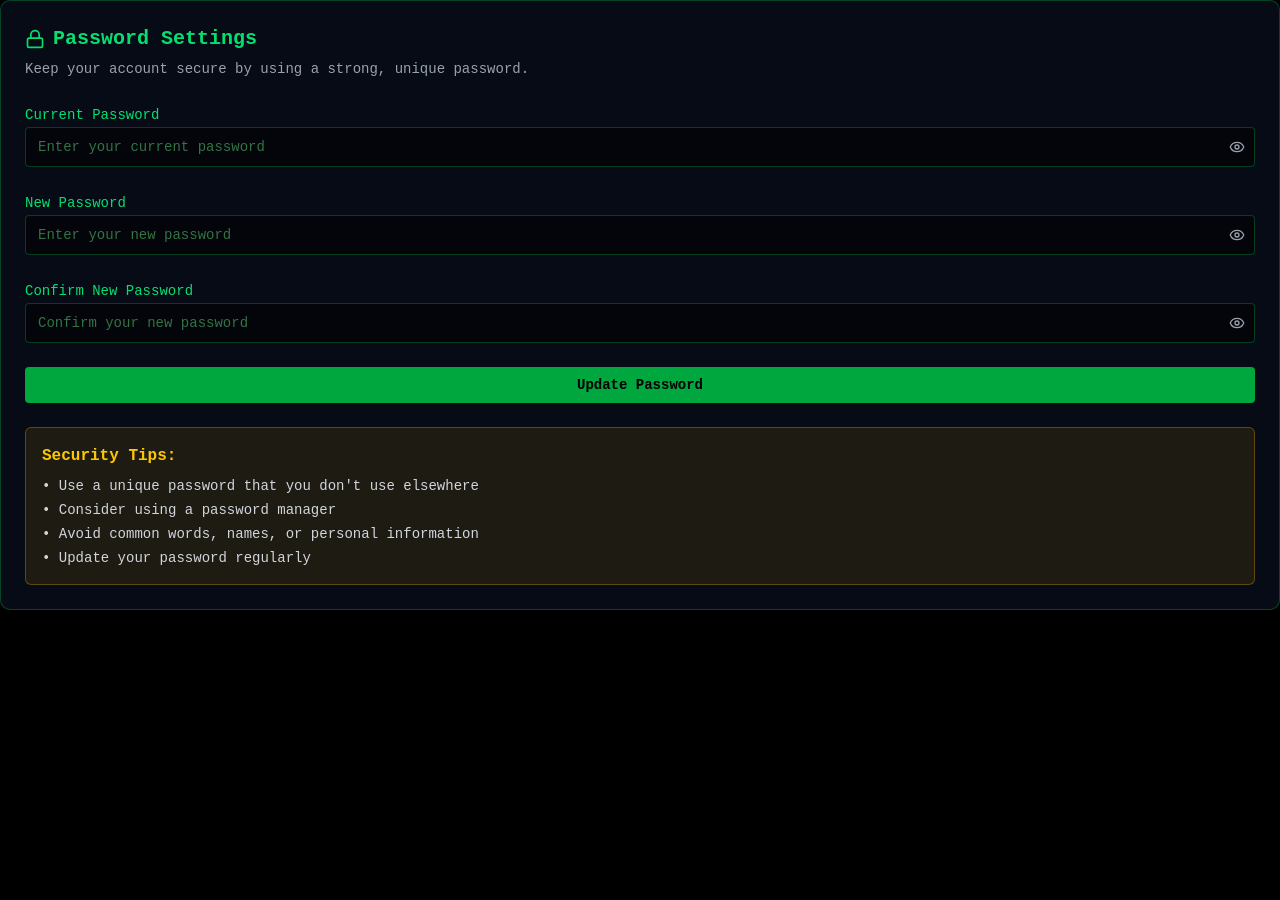
Test: PasswordSettings › prevents using same password as current
Type "SamePassword123!" into the password field labelled "Current Password" at (640, 147), box x1=25 y1=127 x2=1255 y2=167
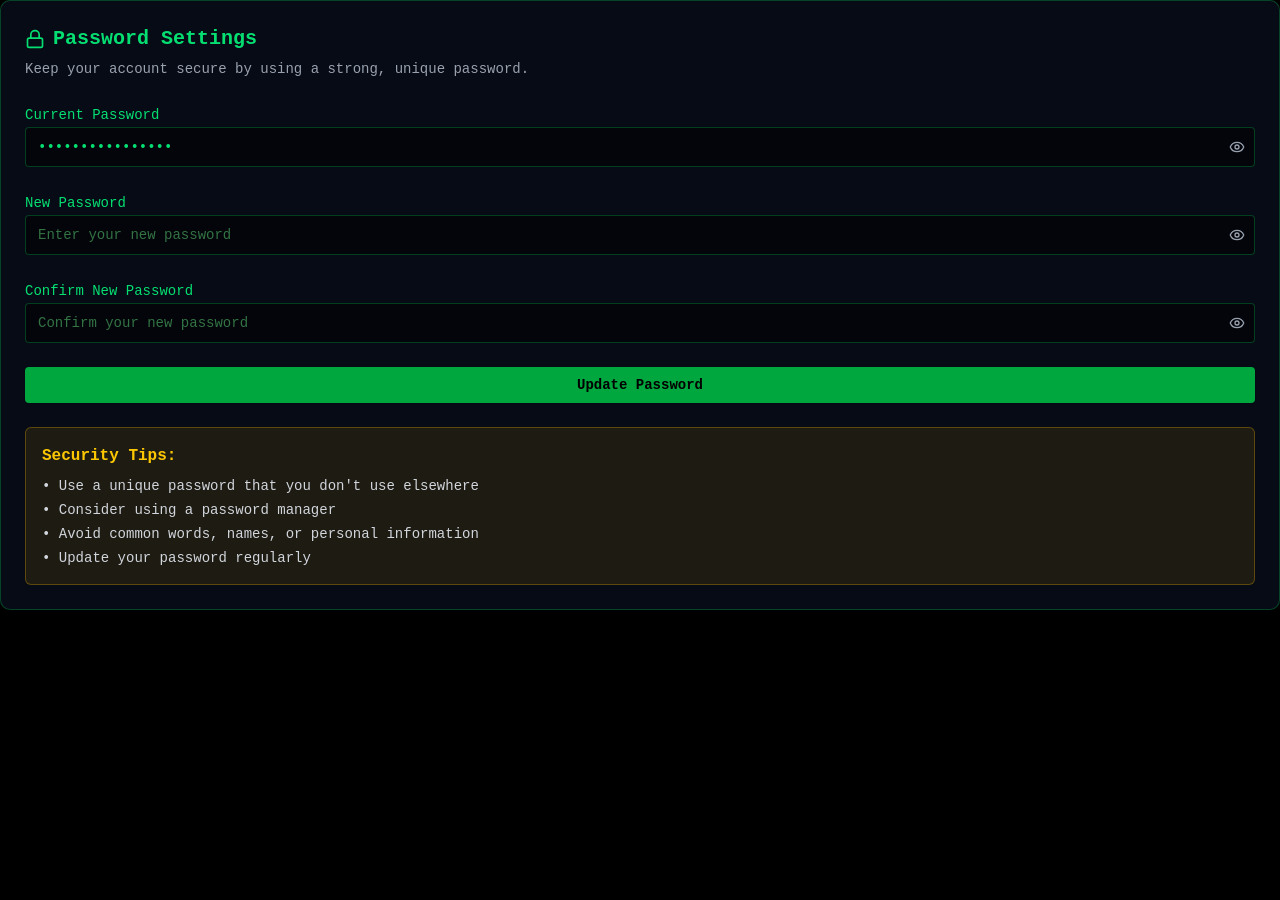
Type "SamePassword123!" into the password field labelled "New Password" at (640, 235), box x1=25 y1=215 x2=1255 y2=255
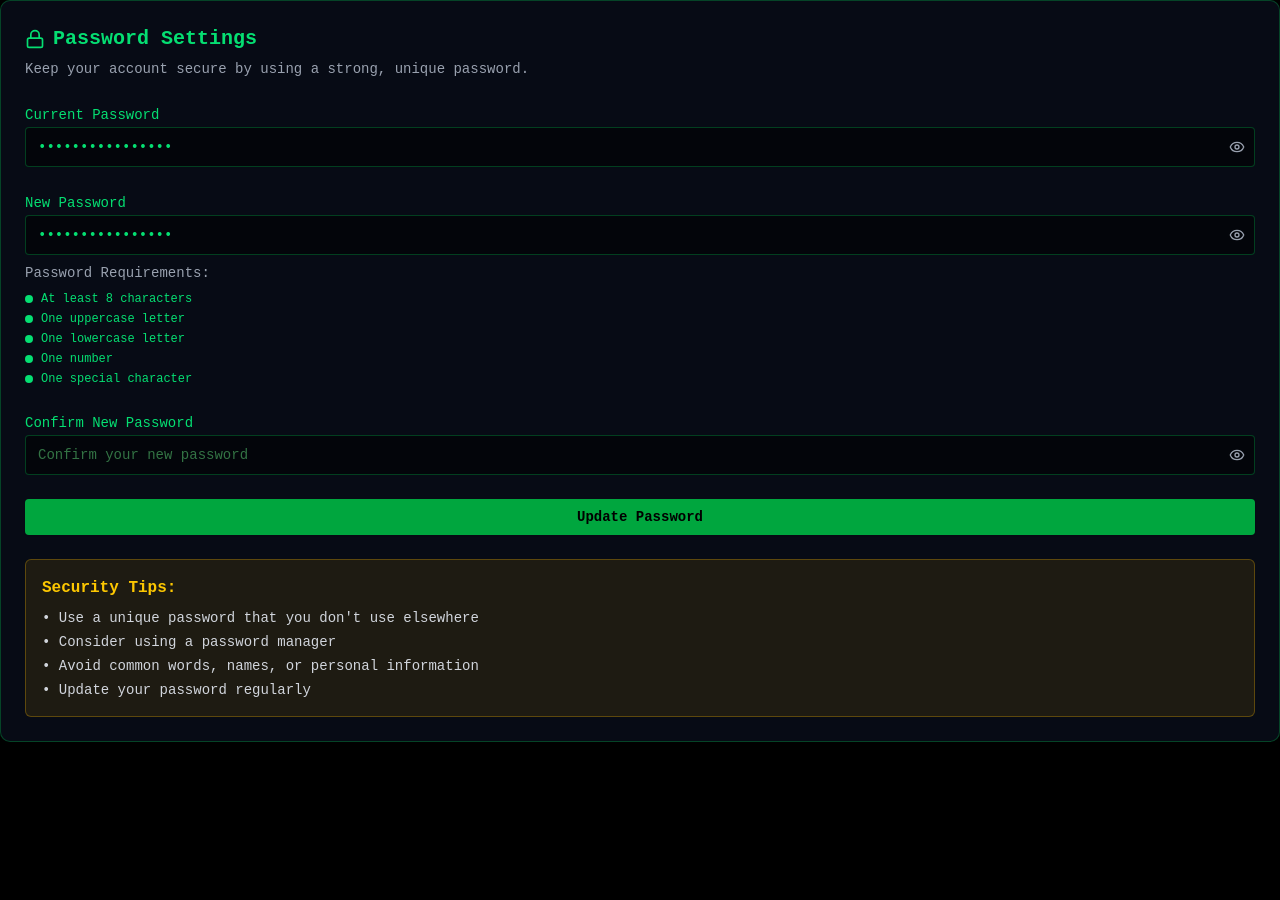
Type "SamePassword123!" into the password field labelled "Confirm New Password" at (640, 455), box x1=25 y1=435 x2=1255 y2=475
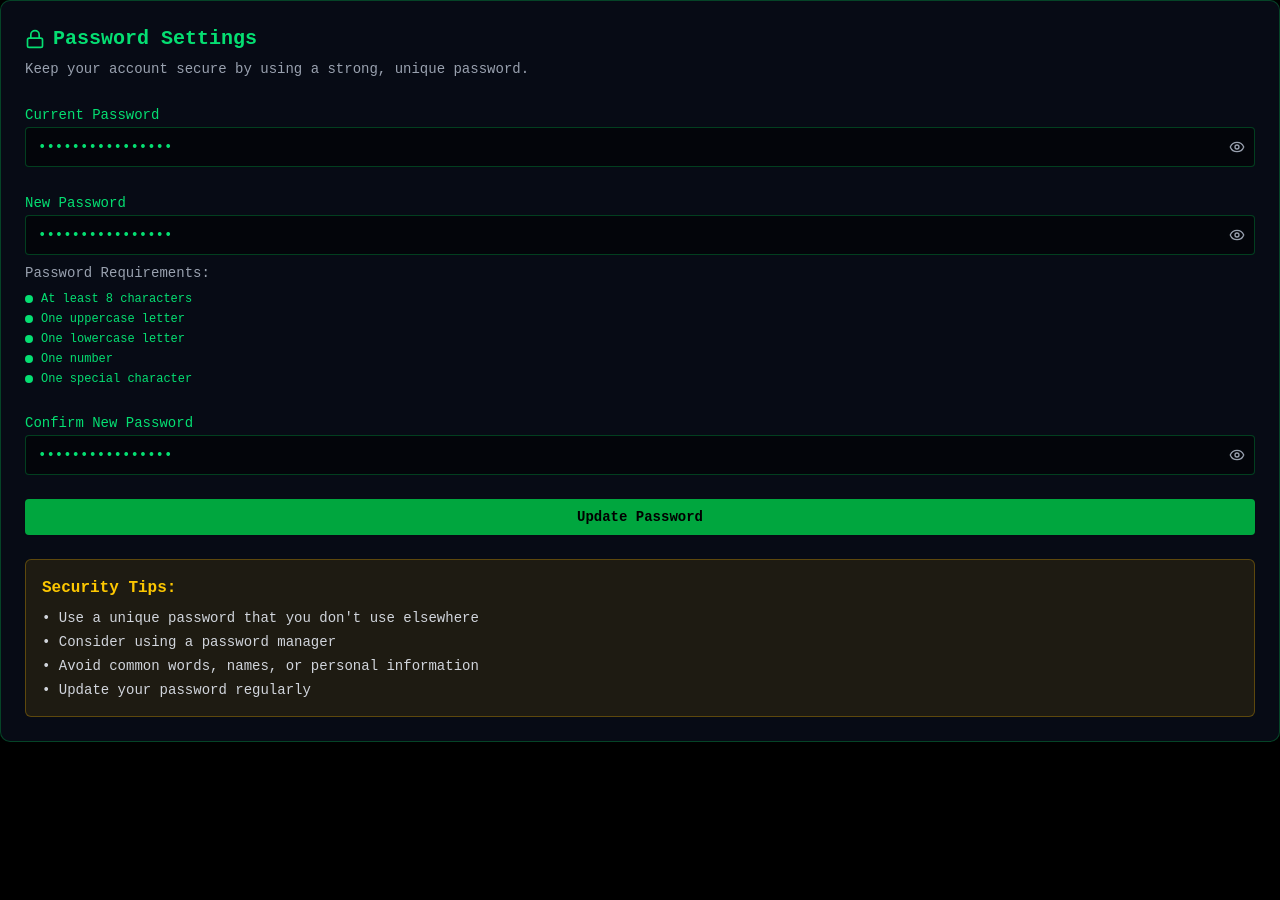
Click the button "Update Password" at (640, 517), box x1=25 y1=499 x2=1255 y2=535
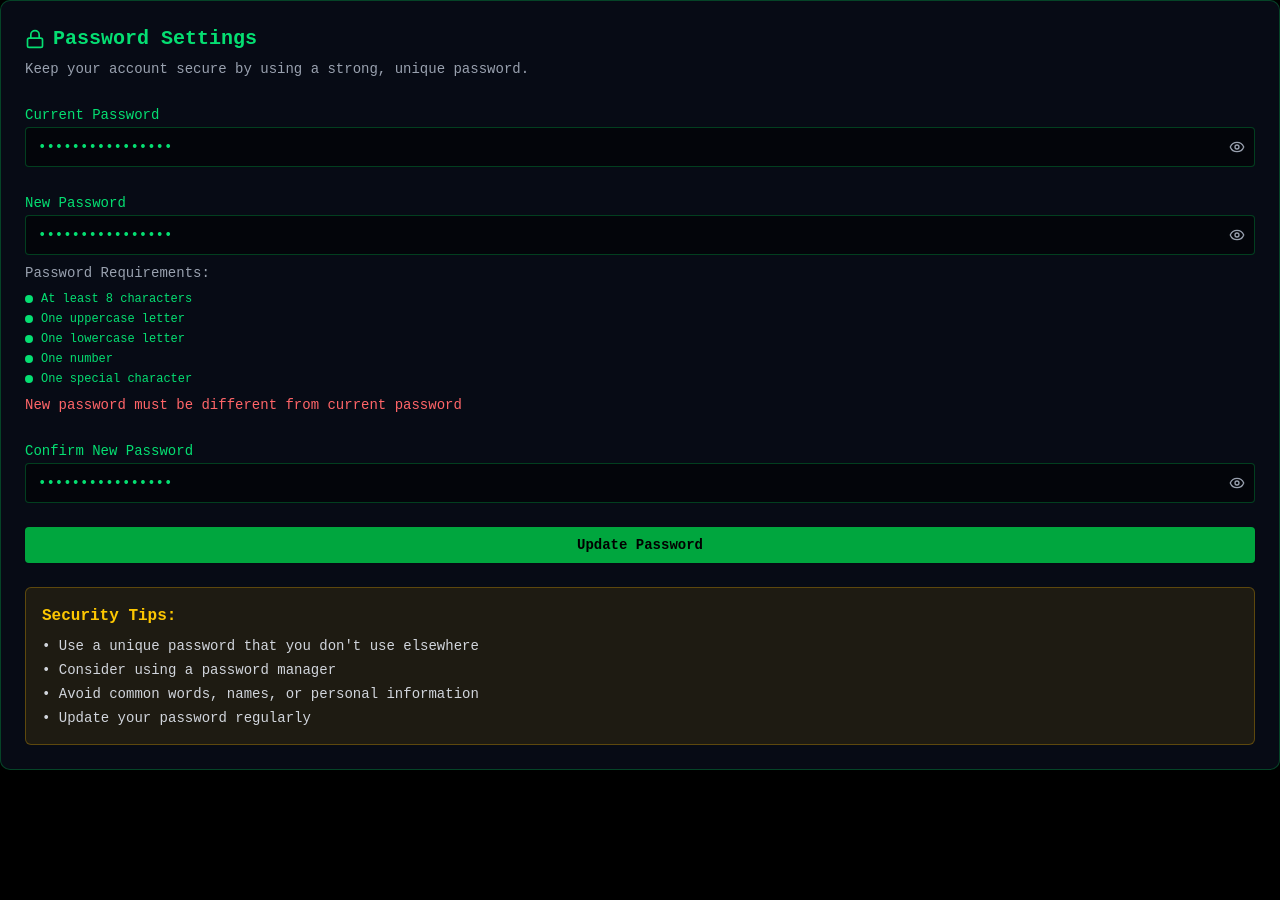
Now the text "New password must be different from current password" is shown, box x1=25 y1=397 x2=462 y2=413
